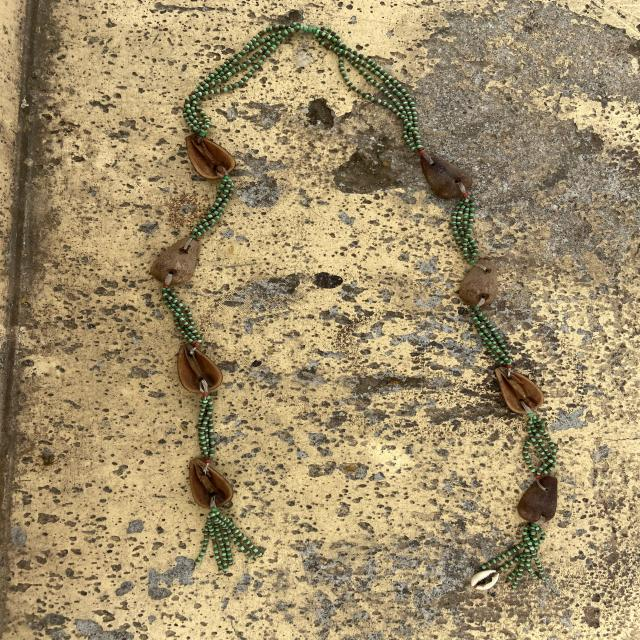facedown: (413, 147, 479, 199), (146, 234, 208, 287), (515, 471, 565, 530), (456, 254, 504, 312)
faceup: (170, 336, 228, 396), (182, 454, 241, 512), (490, 359, 545, 421), (180, 132, 240, 182)
